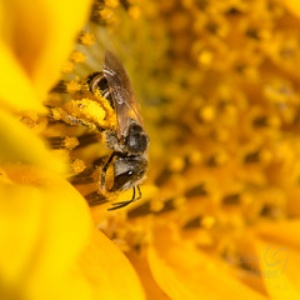bee: (82, 48, 155, 216)
